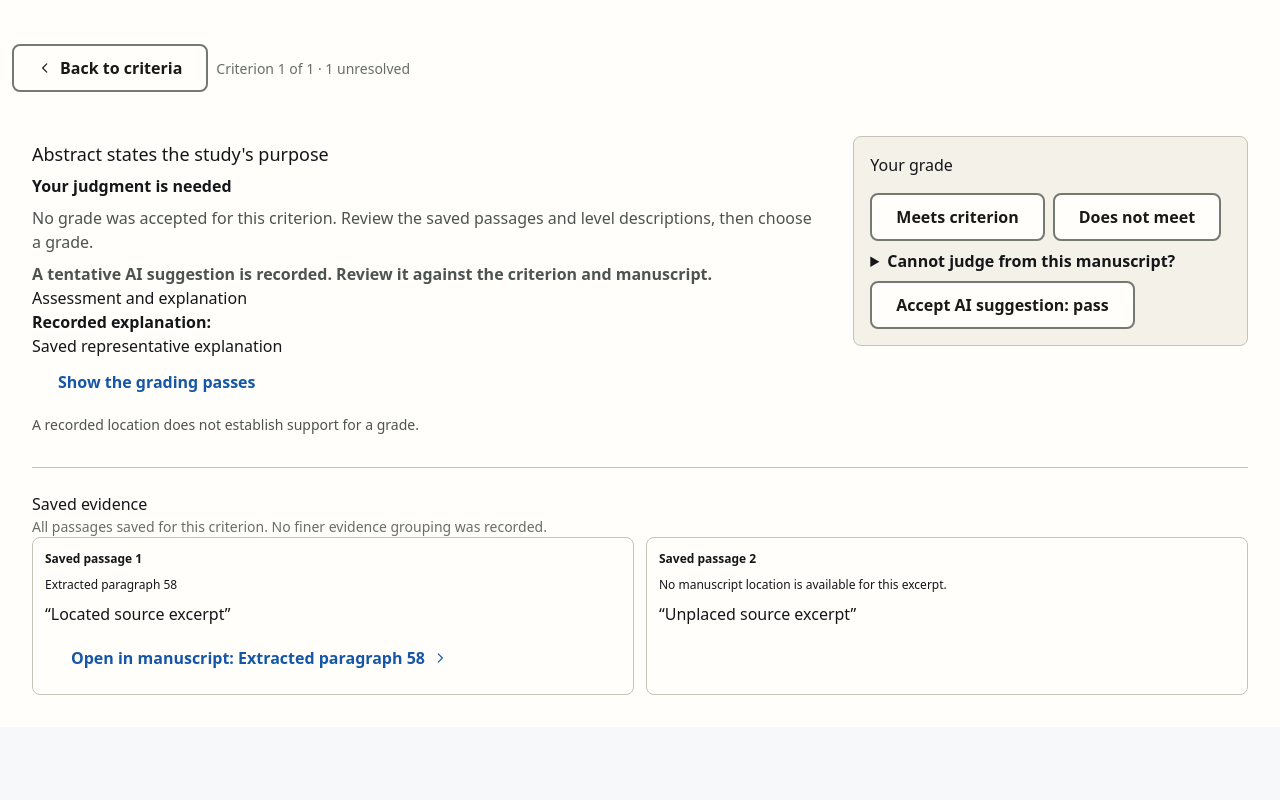
Test: SignalEscalatedPanel / SignalResolutionCard › shows the actual explanation and all located basis before choices and describes confirmation
Expected: the text "No manuscript location is available for this excerpt." is shown, [659,576,947,593]
Expected: the number of links "Open in manuscript: Extracted paragraph 58" is 1, [71,647,447,669]
Click the button "Accept AI suggestion: pass" at (1002, 305), box [870,281,1135,329]
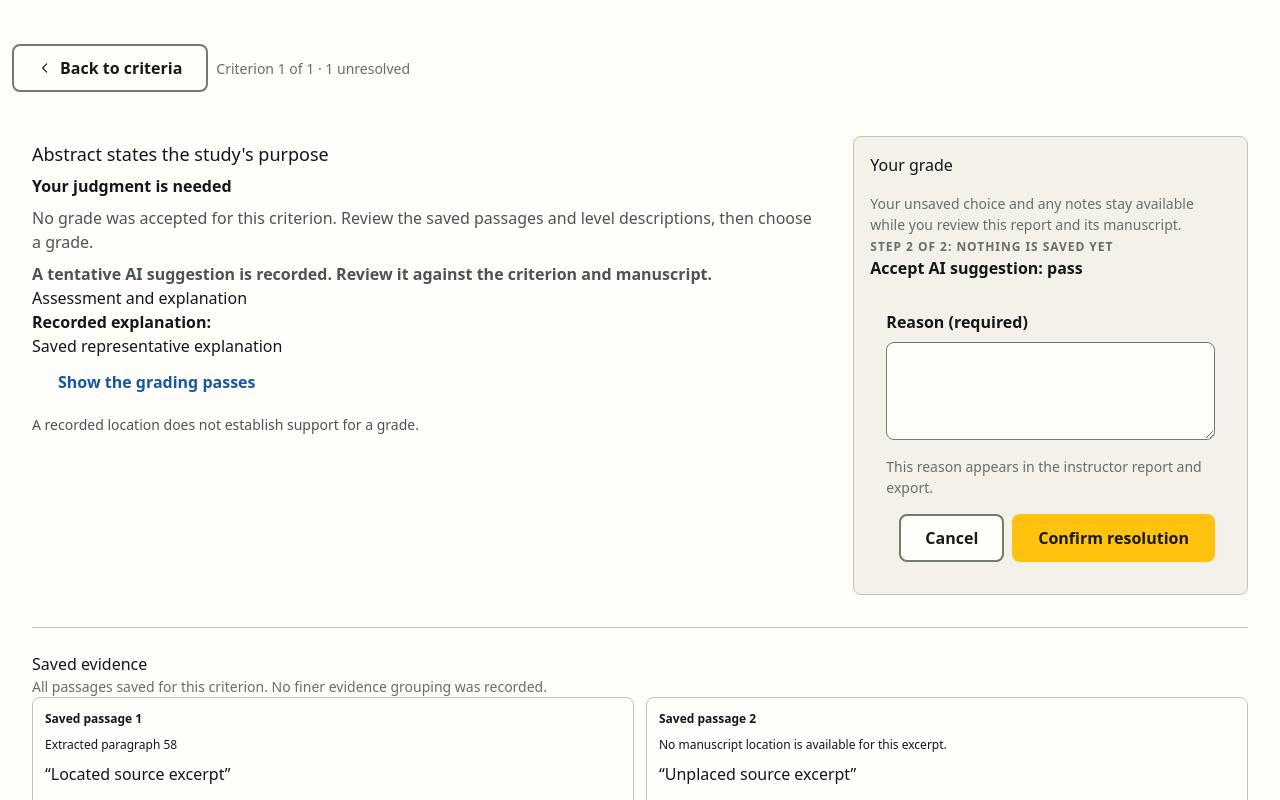
Expected: the text "This reason appears in the instructor report and export." is shown, [886,456,1215,498]
